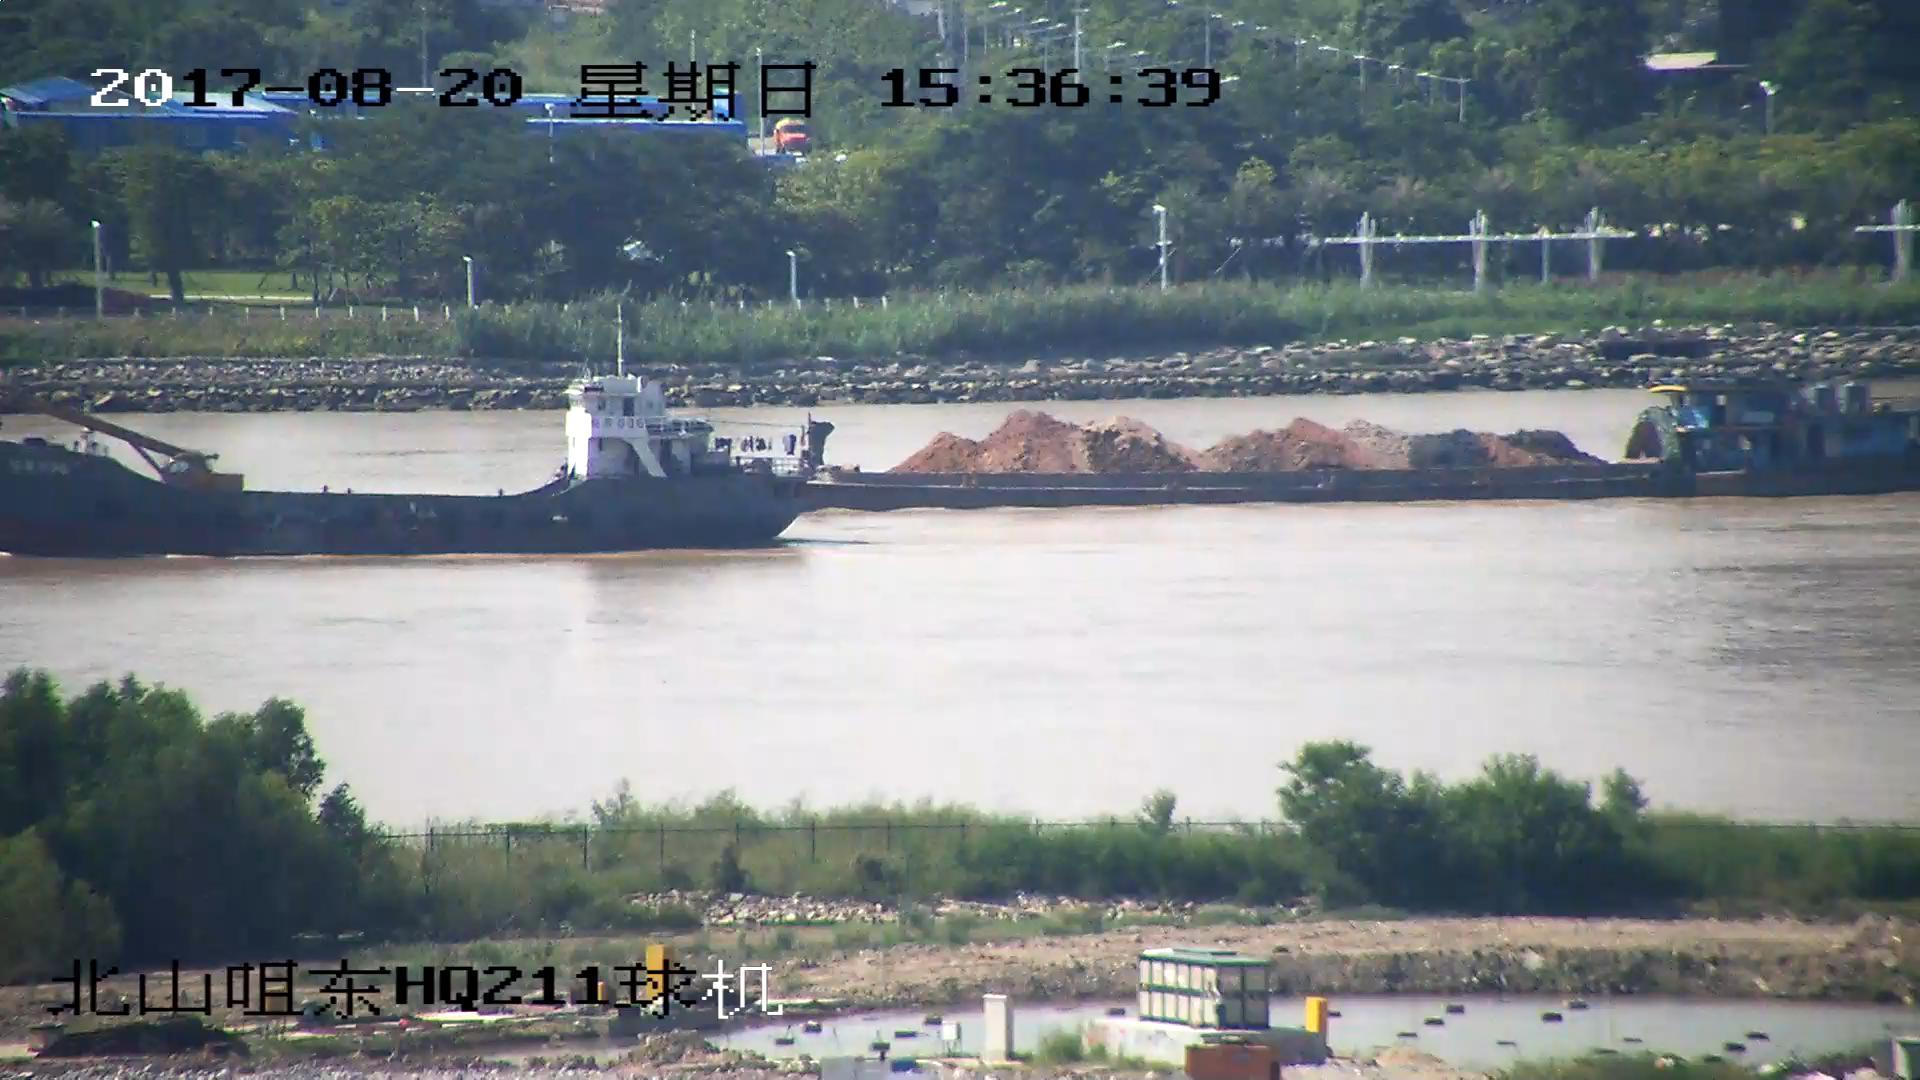Ship: (3, 316, 832, 554), (737, 375, 1920, 506)
